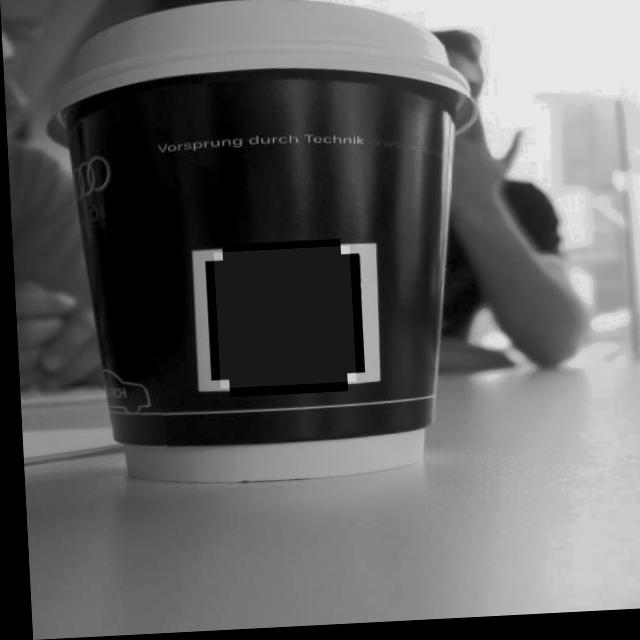qr_code: (211, 249, 352, 391)
